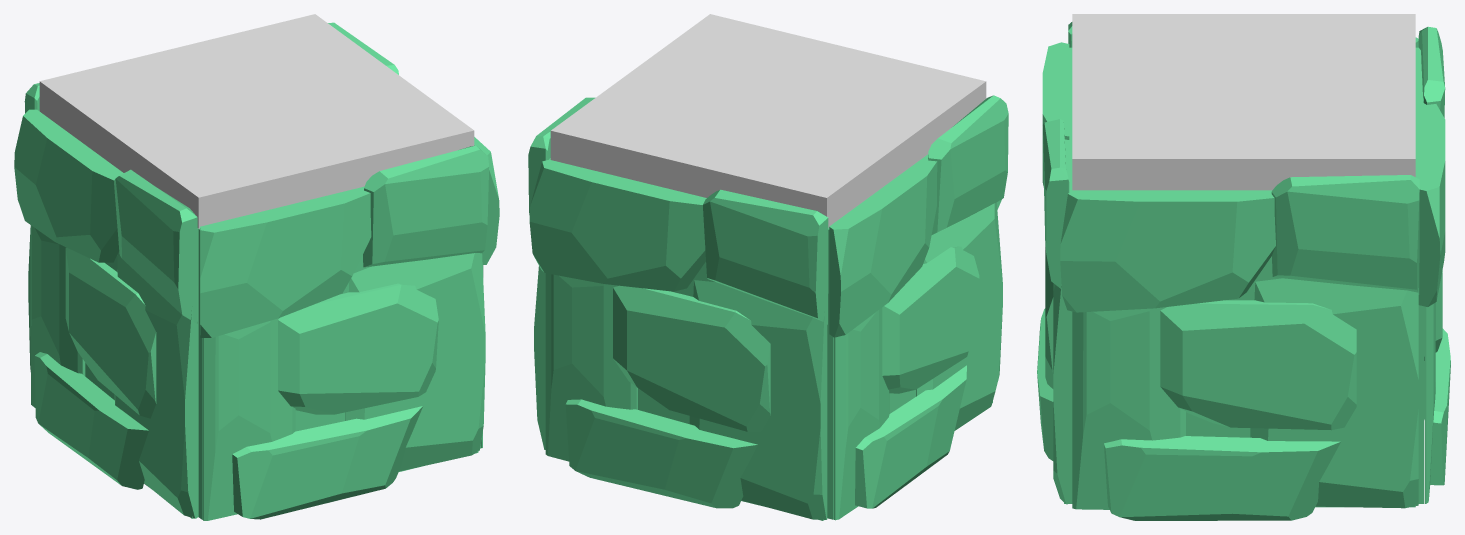
The model's file is SM_RockWall_FF.fbx.
3 views of the same model, side by side, from view 1: azimuth 30°, elevation 25°; view 2: azimuth 150°, elevation 25°; view 3: azimuth 270°, elevation 25° (orthographic). The views are drawn at different scales.
Parts seen in each view (by area): view 1: Cube; view 2: Cube; view 3: Cube.
Part boxes in pixels (bbox=[...]): Cube: bbox=[14, 14, 499, 520]; Cube: bbox=[528, 14, 1008, 520]; Cube: bbox=[1037, 14, 1450, 520].
Bounding box in the file's own units: 121 × 113 × 121.
